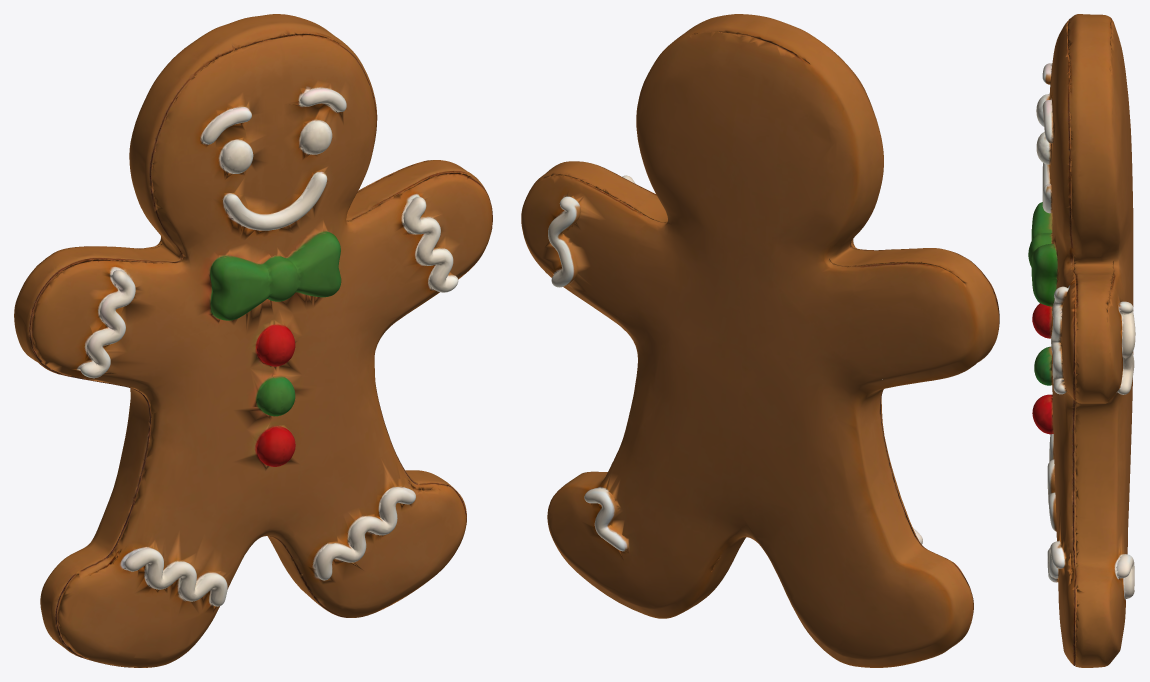
File: vending-gingerbread-web.glb
3 renders of one model, left to right at view 1: azimuth 30°, elevation 25°; view 2: azimuth 150°, elevation 25°; view 3: azimuth 270°, elevation 25°, orthographic. The views are drawn at different scales.
Parts seen in each view (by area): view 1: tripo_node_c0fcd5bb-db3d-49b8-8f92-0157c06af0fc; view 2: tripo_node_c0fcd5bb-db3d-49b8-8f92-0157c06af0fc; view 3: tripo_node_c0fcd5bb-db3d-49b8-8f92-0157c06af0fc.
Part boxes in pixels (x1,y1,x2,y2): tripo_node_c0fcd5bb-db3d-49b8-8f92-0157c06af0fc: (14,14,492,667); tripo_node_c0fcd5bb-db3d-49b8-8f92-0157c06af0fc: (521,14,999,667); tripo_node_c0fcd5bb-db3d-49b8-8f92-0157c06af0fc: (1028,14,1135,667).
Bounding box in the file's own units: 0.7769 × 0.9802 × 0.1631.
1 material, 1 textured.
